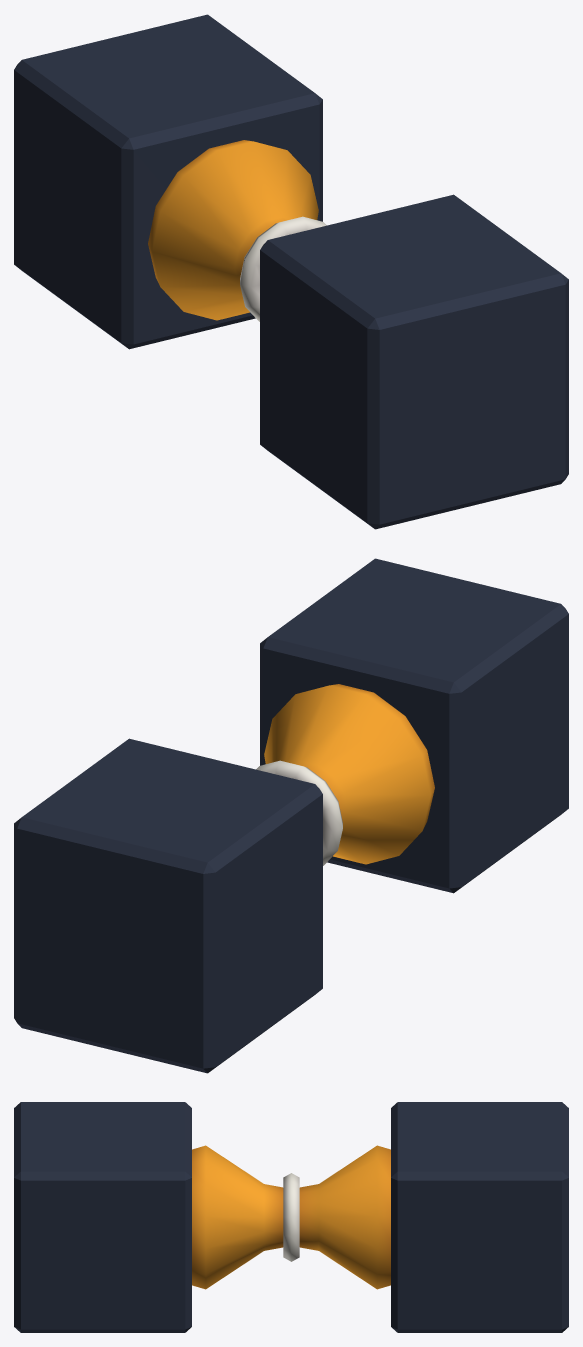
File: R4C_STRUT_STANDARD_LOD1.fbx
3 views of the same model, one above another, from view 1: azimuth 30°, elevation 25°; view 2: azimuth 150°, elevation 25°; view 3: azimuth 270°, elevation 25° (orthographic). The views are drawn at different scales.
Parts seen in each view (by area): view 1: R4C_STRUT_STANDARD_LOD1; view 2: R4C_STRUT_STANDARD_LOD1; view 3: R4C_STRUT_STANDARD_LOD1.
Part boxes in pixels (x1=…): R4C_STRUT_STANDARD_LOD1: x1=14, y1=14, x2=568, y2=529; R4C_STRUT_STANDARD_LOD1: x1=14, y1=558, x2=568, y2=1073; R4C_STRUT_STANDARD_LOD1: x1=14, y1=1102, x2=568, y2=1332.
Size of the model in its own units: 0.52 by 0.52 by 1.62.
